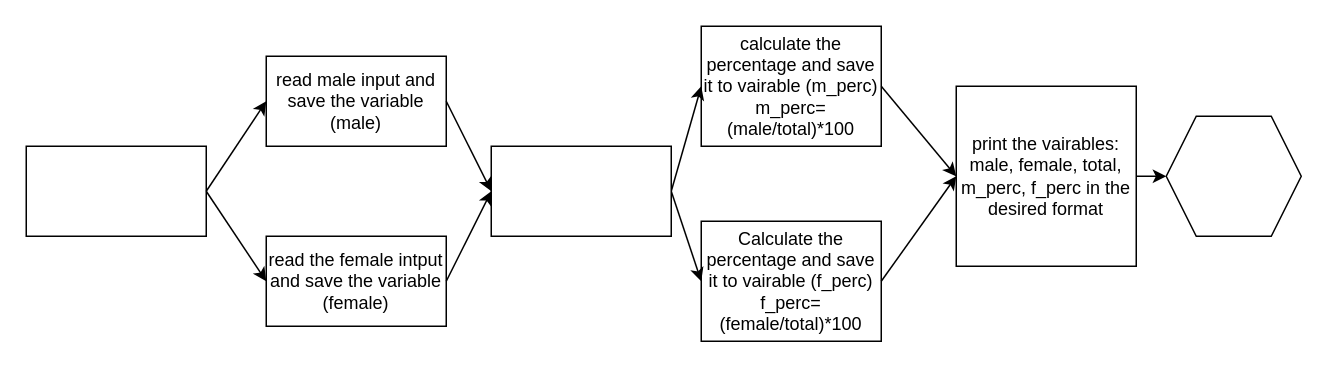
Image size: 1328x368. Some labels were removed from this diagram. The centre of each missing label's shape, as x and y in pixels:
"Start the program" belongs at point (115, 190).
"sum both numbers and save to variable (Total) Total = male + female" belongs at point (580, 190).
"the program ends" belongs at point (1233, 175).
